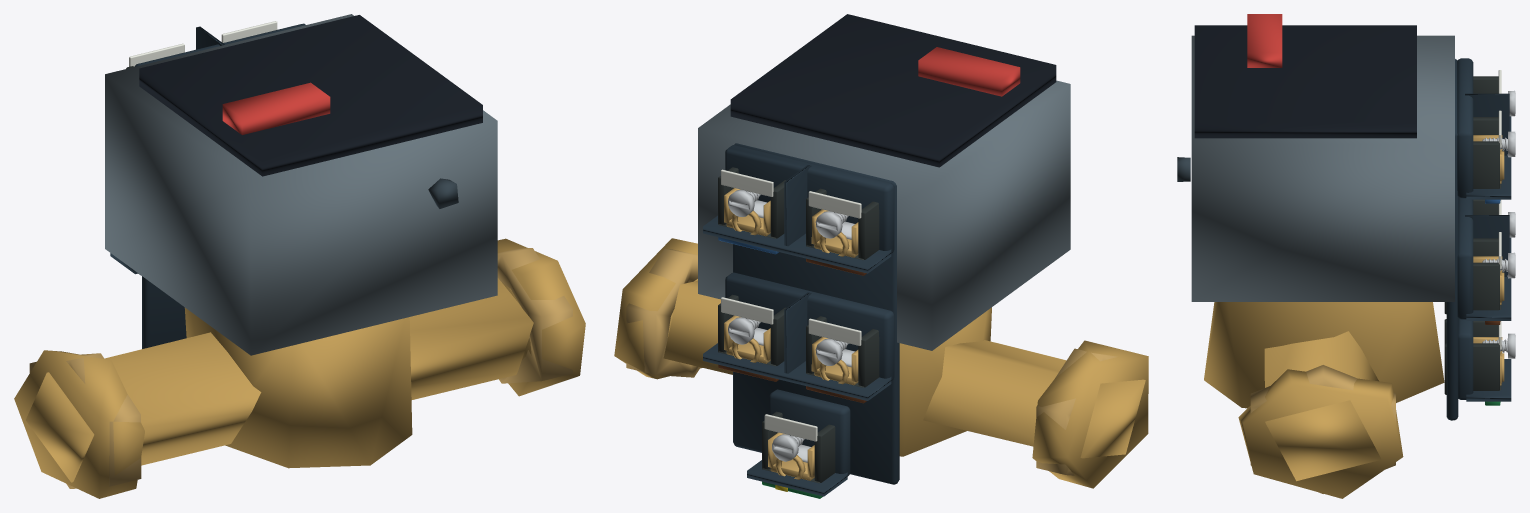
Rendered from valve_two-port.low.glb.
3 views of the same model, side by side, from view 1: azimuth 30°, elevation 25°; view 2: azimuth 150°, elevation 25°; view 3: azimuth 270°, elevation 25° (orthographic). The views are drawn at different scales.
Parts seen in each view (by area): view 1: part:actuator, part:body · Original df732090, detail:valve-end-switch · Detail machined brass, motion:valve-pointer, part:terminals · Original a463fd81, part:body.001; view 2: part:actuator, part:terminals · Original a463fd81, part:body · Original df732090, detail:valve-end-switch · Detail machined brass, motion:valve-pointer, detail:terminal-clamp:PE · Detail moulded engineering polyme, detail:terminal-clamp:CALL · Detail moulded engineering poly, detail:terminal-clamp:L · Detail moulded engineering polymer, detail:terminal-clamp:N · Detail moulded engineering polymer, detail:terminal-clamp:END · Detail moulded engineering polym, detail:terminal-clamp:L · Detail machined brass, detail:terminal-clamp:END · Detail machined brass (+13 smaller); view 3: part:actuator, part:body · Original df732090, part:terminals · Original a463fd81, motion:valve-pointer, detail:terminal-clamp:PE · Detail moulded engineering polyme, detail:terminal-clamp:END · Detail moulded engineering polym, detail:terminal-clamp:N · Detail moulded engineering polymer, detail:valve-end-switch · Detail machined brass, detail:terminal-clamp:L · Detail moulded engineering polymer.
Boxes of the visible parts, x1=… form: part:actuator: x1=105, y1=14, x2=497, y2=355; part:body · Original df732090: x1=14, y1=238, x2=585, y2=498; detail:valve-end-switch · Detail machined brass: x1=29, y1=248, x2=572, y2=488; motion:valve-pointer: x1=222, y1=82, x2=330, y2=134; part:terminals · Original a463fd81: x1=110, y1=23, x2=305, y2=348; part:body.001: x1=428, y1=178, x2=458, y2=208; part:actuator: x1=698, y1=14, x2=1070, y2=350; part:terminals · Original a463fd81: x1=703, y1=143, x2=899, y2=496; part:body · Original df732090: x1=614, y1=238, x2=1148, y2=488; detail:valve-end-switch · Detail machined brass: x1=626, y1=248, x2=1117, y2=475; motion:valve-pointer: x1=918, y1=47, x2=1020, y2=96; detail:terminal-clamp:PE · Detail moulded engineering polyme: x1=762, y1=411, x2=835, y2=483; detail:terminal-clamp:CALL · Detail moulded engineering poly: x1=806, y1=316, x2=879, y2=387; detail:terminal-clamp:L · Detail moulded engineering polymer: x1=806, y1=188, x2=879, y2=260; detail:terminal-clamp:N · Detail moulded engineering polymer: x1=718, y1=167, x2=785, y2=238; detail:terminal-clamp:END · Detail moulded engineering polym: x1=718, y1=294, x2=785, y2=366; detail:terminal-clamp:L · Detail machined brass: x1=811, y1=209, x2=858, y2=257; detail:terminal-clamp:END · Detail machined brass: x1=724, y1=315, x2=770, y2=363; part:actuator: x1=1191, y1=25, x2=1454, y2=301; part:body · Original df732090: x1=1204, y1=302, x2=1444, y2=498; part:terminals · Original a463fd81: x1=1446, y1=58, x2=1511, y2=420; motion:valve-pointer: x1=1247, y1=14, x2=1282, y2=67; detail:terminal-clamp:PE · Detail moulded engineering polyme: x1=1444, y1=319, x2=1501, y2=394; detail:terminal-clamp:END · Detail moulded engineering polym: x1=1444, y1=238, x2=1501, y2=314; detail:terminal-clamp:N · Detail moulded engineering polymer: x1=1473, y1=117, x2=1501, y2=188; detail:valve-end-switch · Detail machined brass: x1=1250, y1=365, x2=1395, y2=493; detail:terminal-clamp:L · Detail moulded engineering polymer: x1=1473, y1=76, x2=1498, y2=93.
Bounding box in the file's own units: 1.02 × 0.7423 × 0.6804.
